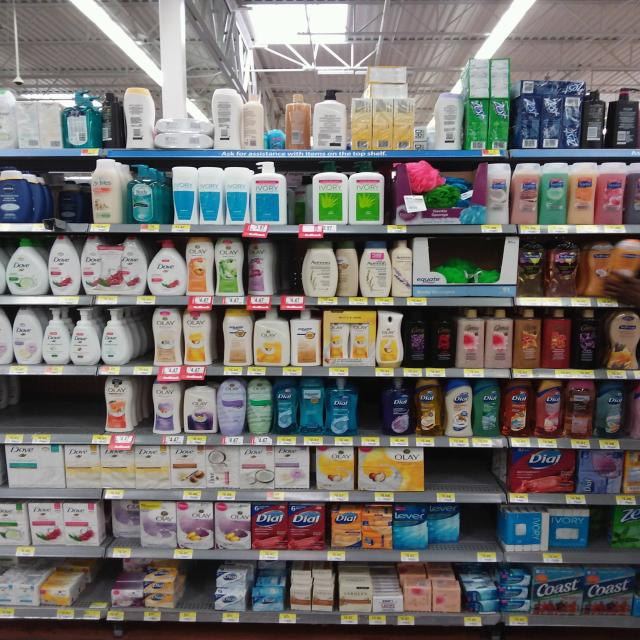void: (430, 448, 500, 502), (67, 377, 101, 444), (33, 379, 65, 443), (0, 378, 31, 442), (180, 561, 211, 623), (466, 506, 498, 561), (280, 238, 302, 306)
